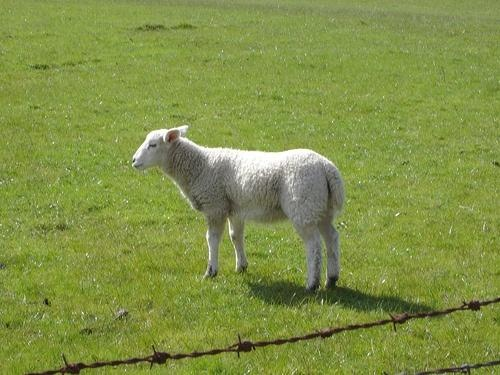sheep: (130, 123, 348, 293)
